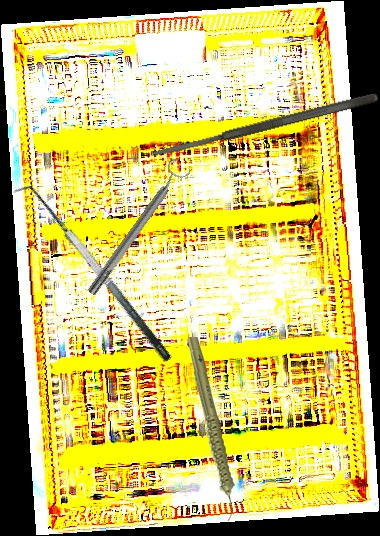Fixation Ring: (79, 156, 194, 300)
Handpiece: (182, 337, 239, 521)
Spatula Surgical: (12, 174, 174, 375), (148, 90, 380, 161)
